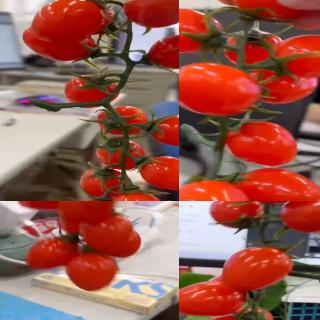tomato: (179, 65, 257, 118), (226, 122, 299, 169), (221, 246, 293, 293), (32, 0, 105, 45), (231, 167, 320, 201), (22, 25, 100, 63), (179, 276, 248, 317), (218, 27, 286, 64), (80, 212, 135, 255), (64, 250, 119, 292), (272, 33, 320, 80), (179, 5, 225, 51), (254, 71, 318, 104), (25, 236, 82, 269), (65, 75, 120, 108), (216, 0, 302, 21), (209, 201, 269, 231), (97, 106, 154, 137), (96, 139, 150, 171), (124, 0, 179, 29), (78, 168, 124, 201), (179, 179, 248, 201), (138, 154, 179, 190), (54, 201, 118, 222), (145, 31, 179, 69), (279, 201, 320, 232), (147, 113, 179, 146), (108, 191, 165, 201), (16, 201, 65, 212)
